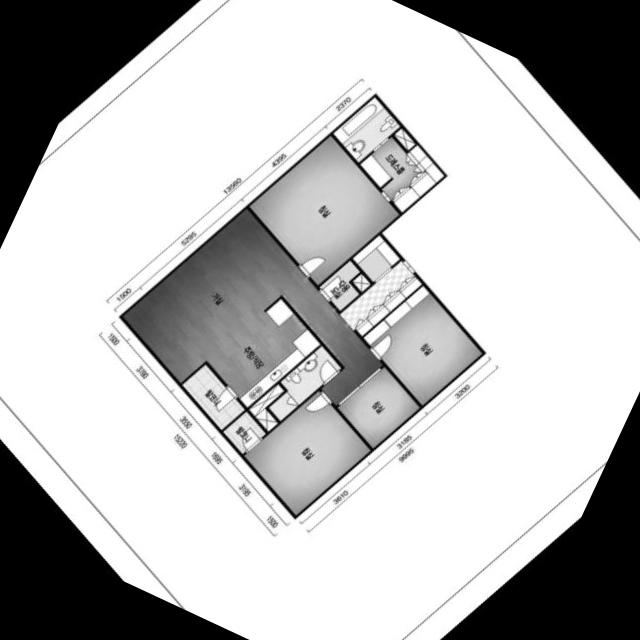background: (0, 0, 640, 640)
space_balconi: (182, 365, 245, 430), (222, 412, 266, 455)
space_bedroom: (249, 136, 399, 286), (244, 391, 370, 516), (363, 287, 481, 406), (337, 367, 419, 449)
space_dressroom: (359, 137, 444, 213)
space_front: (339, 235, 422, 337)
space_kitchen: (206, 299, 320, 408)
space_living_room: (122, 209, 382, 406)
space_multipurpose_space: (319, 261, 360, 311)
space_other: (248, 384, 284, 432), (393, 128, 415, 151), (351, 274, 371, 293)
space_toilet: (268, 346, 341, 421), (333, 98, 400, 163)
